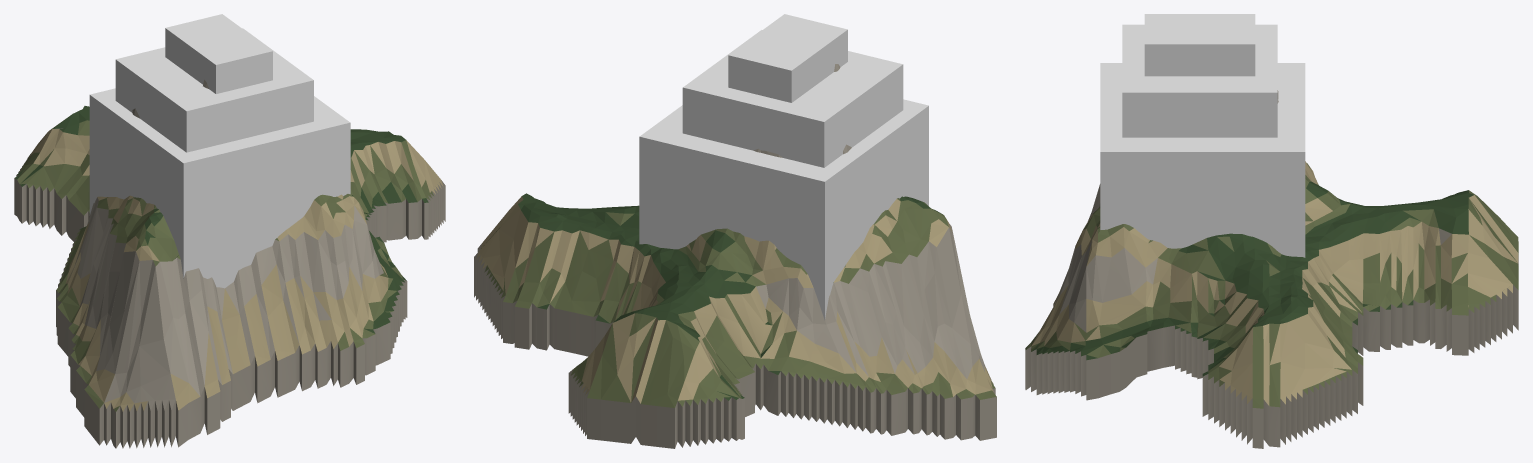
The model's file is agando.glb.
3 renders of one model, left to right at view 1: azimuth 30°, elevation 25°; view 2: azimuth 150°, elevation 25°; view 3: azimuth 270°, elevation 25°, orthographic. The views are drawn at different scales.
Parts seen in each view (by area): view 1: sitio, bulto-roque-1, bulto-roque-2, bulto-roque-3; view 2: sitio, bulto-roque-1, bulto-roque-2, bulto-roque-3; view 3: sitio, bulto-roque-1, bulto-roque-2, bulto-roque-3.
Part boxes in pixels (<box>): sitio: <box>14,79,445,448</box>; bulto-roque-1: <box>89,88,350,288</box>; bulto-roque-2: <box>115,28,313,152</box>; bulto-roque-3: <box>165,14,272,93</box>; sitio: <box>474,64,996,448</box>; bulto-roque-1: <box>639,99,928,320</box>; bulto-roque-2: <box>682,30,903,167</box>; bulto-roque-3: <box>728,14,847,102</box>; sitio: <box>1025,90,1518,448</box>; bulto-roque-1: <box>1100,63,1305,257</box>; bulto-roque-2: <box>1122,24,1277,137</box>; bulto-roque-3: <box>1144,14,1255,76</box>.
Bounding box in the file's own units: 460 × 374 × 445.
